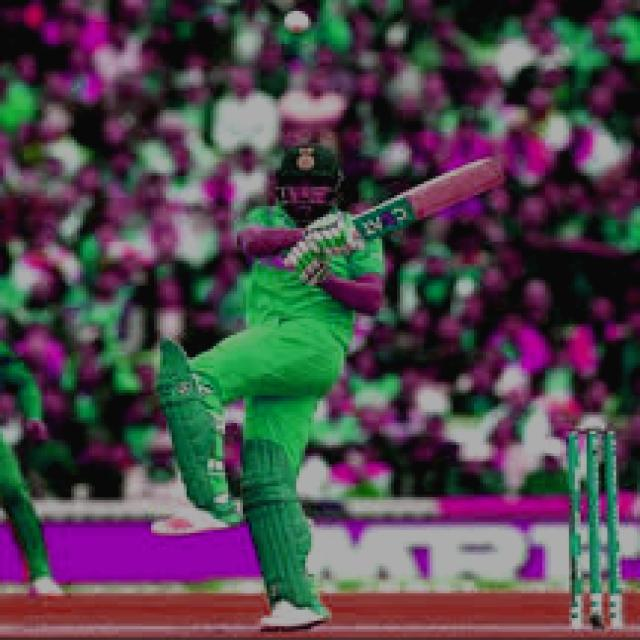toe: (478, 152, 506, 191)
